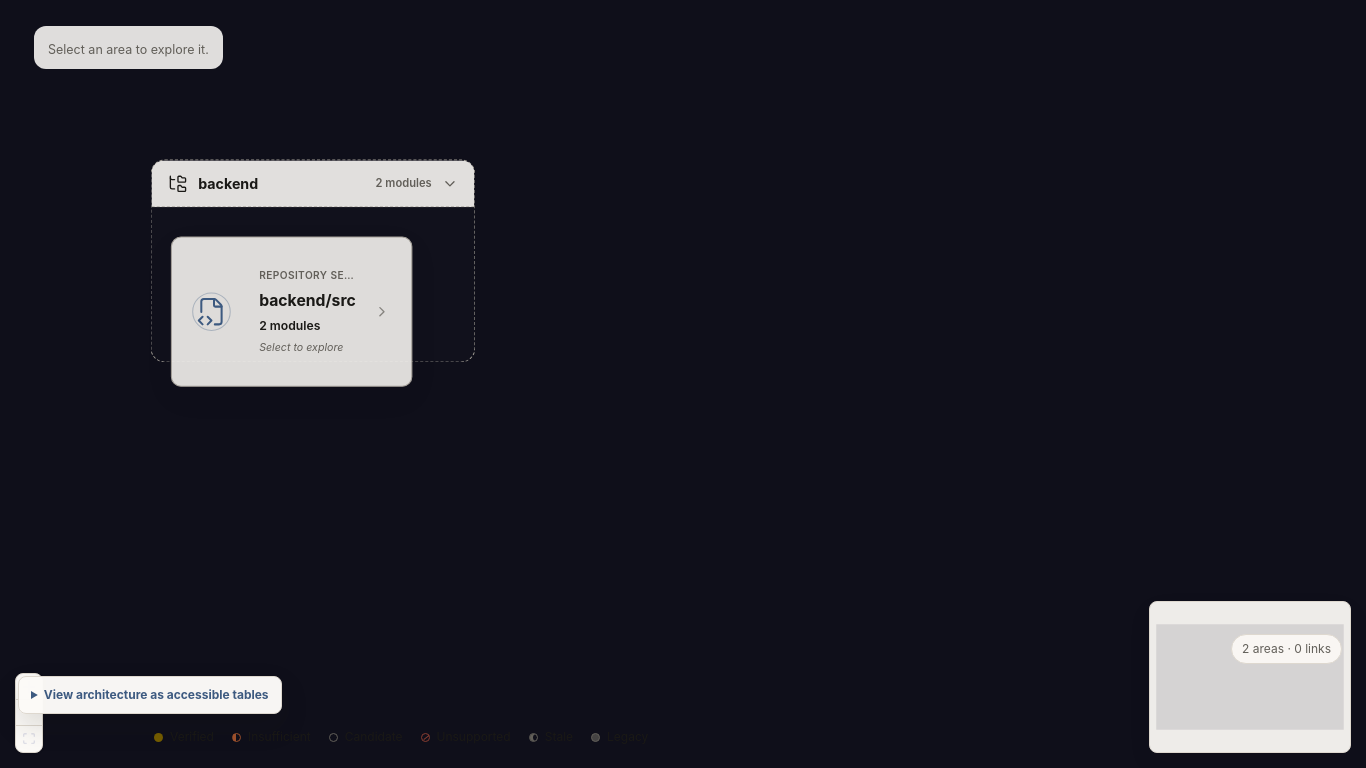
Scenario: ArchitectureMapCanvas Phase C1 expand/collapse vs navigation › the accessible table only lists nodes currently visible on canvas, and gains a Parent section column
Click the heading "View architecture as accessible tables" at (156, 694), box [44, 687, 269, 702]
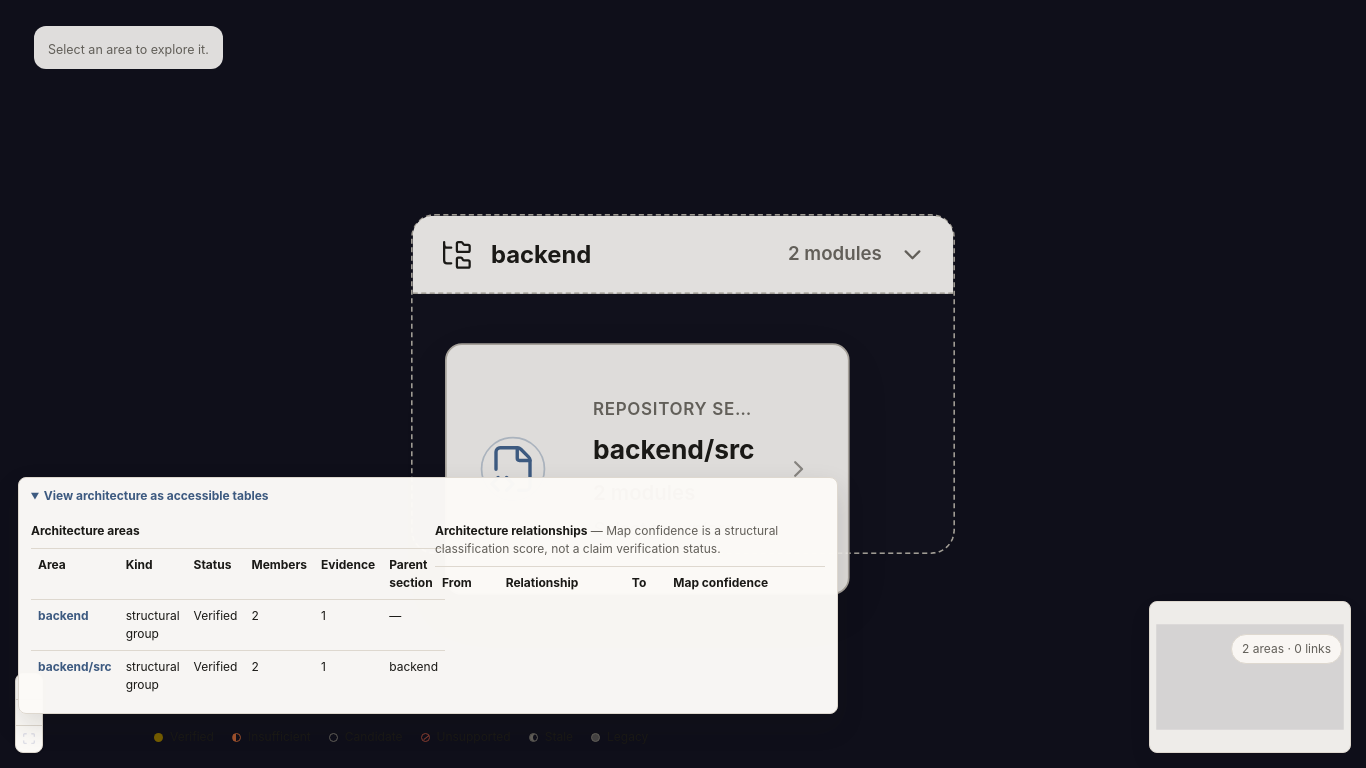
Check: the text "backend/src" is shown, box [593, 429, 763, 469]
Check: the column heading "Parent section" is shown, box [382, 548, 445, 600]
